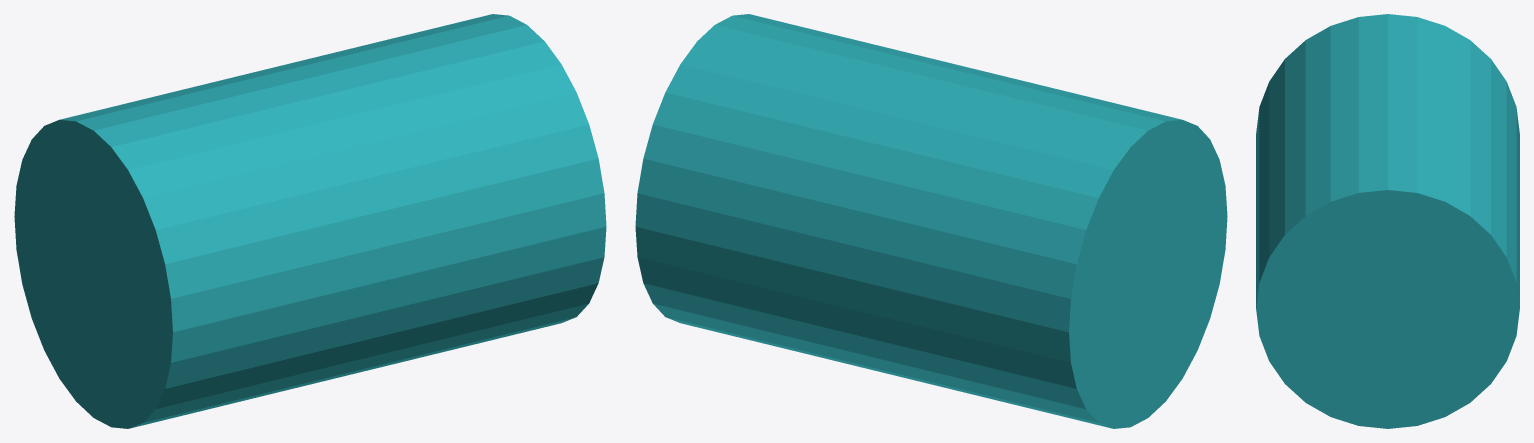
File: septic-system.glb
The picture shows the model from 3 angles, left to right: view 1: azimuth 30°, elevation 25°; view 2: azimuth 150°, elevation 25°; view 3: azimuth 270°, elevation 25°; orthographic projection. The views are drawn at different scales.
Visible parts, largest first — view 1: world; view 2: world; view 3: world.
Part boxes in pixels (x1=…): world: x1=14, y1=14, x2=606, y2=428; world: x1=635, y1=14, x2=1227, y2=428; world: x1=1256, y1=14, x2=1519, y2=428.
Bounding box in the file's own units: 1.2 × 0.76 × 0.76.
